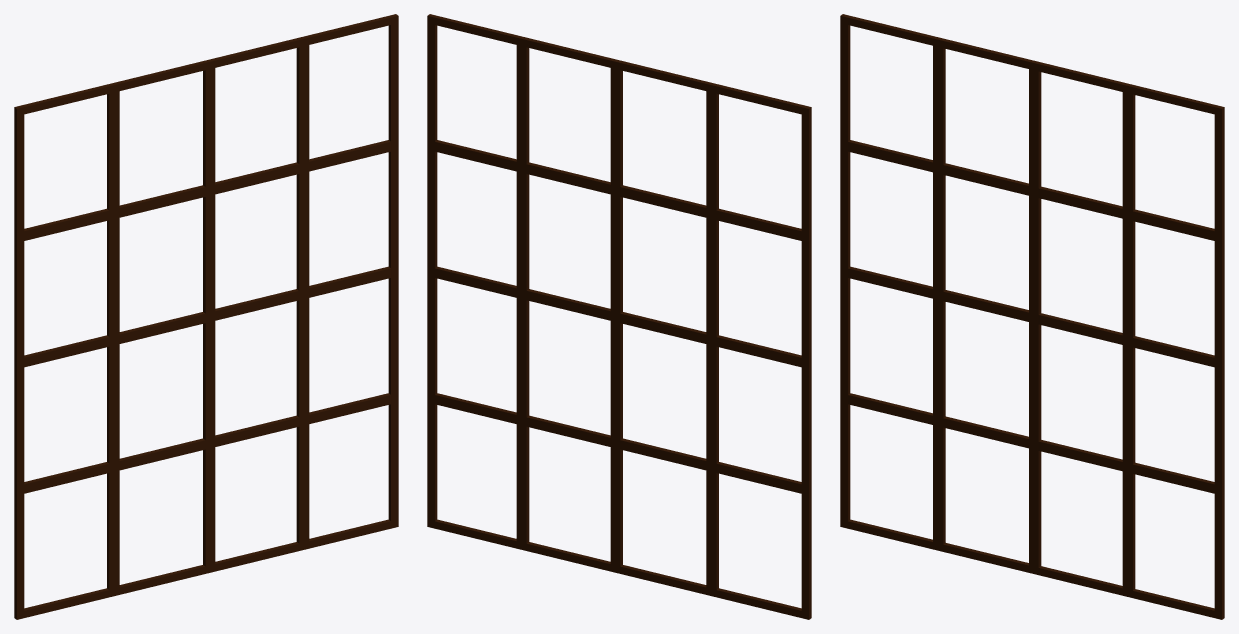
Rendered from ventana1.fbx.
3 renders of one model, left to right at view 1: azimuth 30°, elevation 25°; view 2: azimuth 150°, elevation 25°; view 3: azimuth 330°, elevation 25°, orthographic.
Parts seen in each view (by area): view 1: Cube.024; view 2: Cube.024; view 3: Cube.024.
Part boxes in pixels (x1=…): Cube.024: x1=14, y1=14, x2=398, y2=619; Cube.024: x1=427, y1=14, x2=811, y2=619; Cube.024: x1=840, y1=14, x2=1224, y2=619.
Bounding box in the file's own units: 2892 × 3701 × 32.14.
